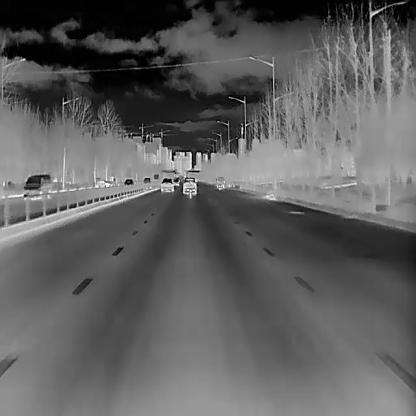car: (22, 173, 50, 200), (182, 176, 196, 193), (160, 177, 174, 192), (214, 176, 225, 190), (122, 178, 133, 186), (172, 176, 180, 186), (142, 176, 150, 184)
